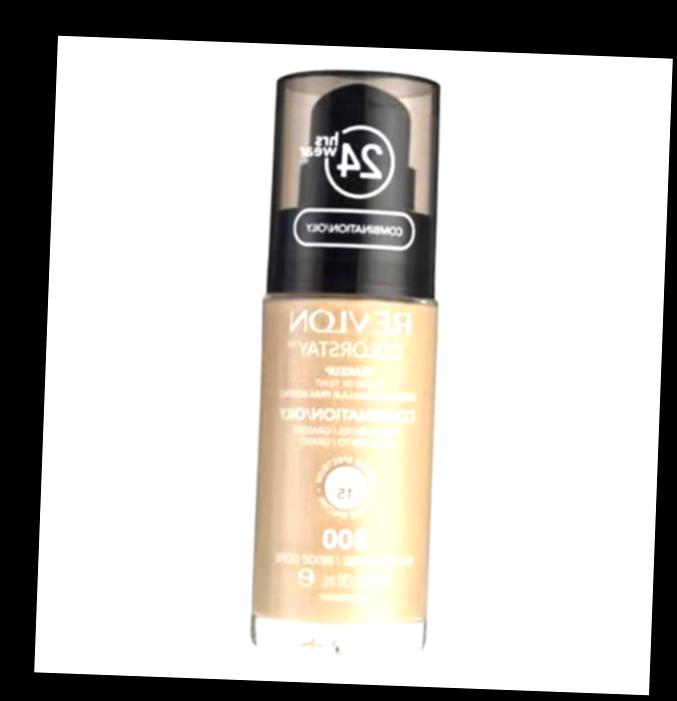cosmetic: (246, 68, 448, 652)
